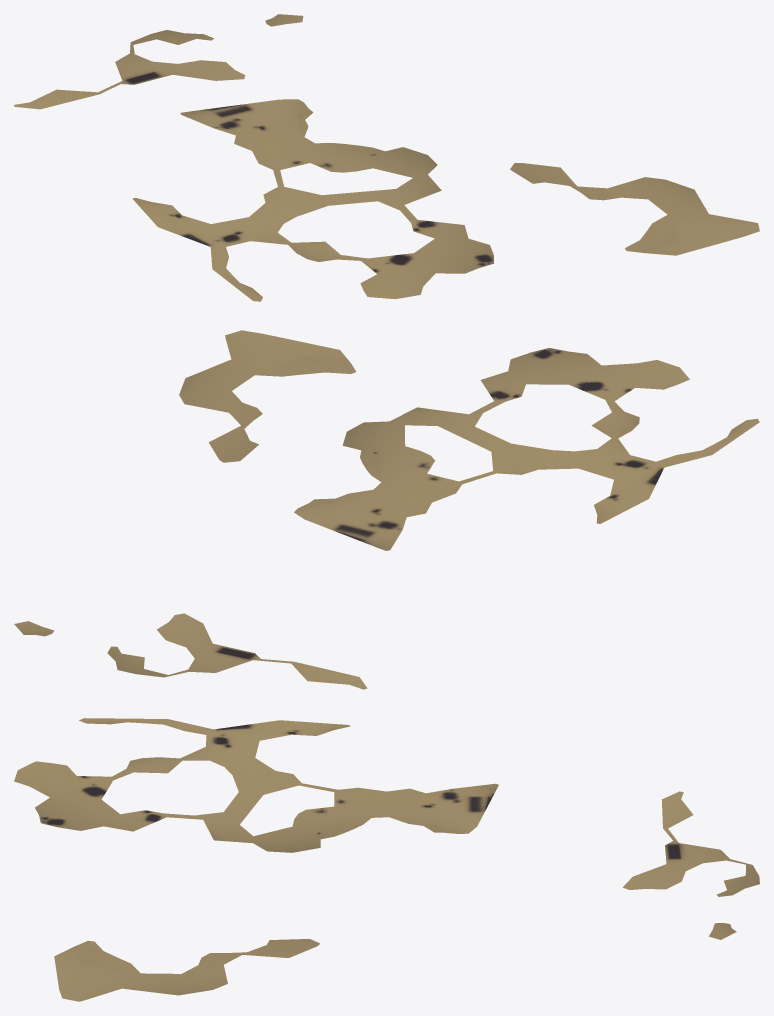
The model's file is Ground_05.FBX.
3 renders of one model, top to bottom at view 1: azimuth 30°, elevation 25°; view 2: azimuth 150°, elevation 25°; view 3: azimuth 270°, elevation 25°, orthographic. The views are drawn at different scales.
Visible parts, largest first — view 1: Ground_05; view 2: Ground_05; view 3: Ground_05.
Part boxes in pixels (<box>): Ground_05: <box>14,14,759,301</box>; Ground_05: <box>14,330,759,689</box>; Ground_05: <box>14,718,759,1001</box>.
Size of the model in its own units: 32.26 by 2.65 by 42.16.
